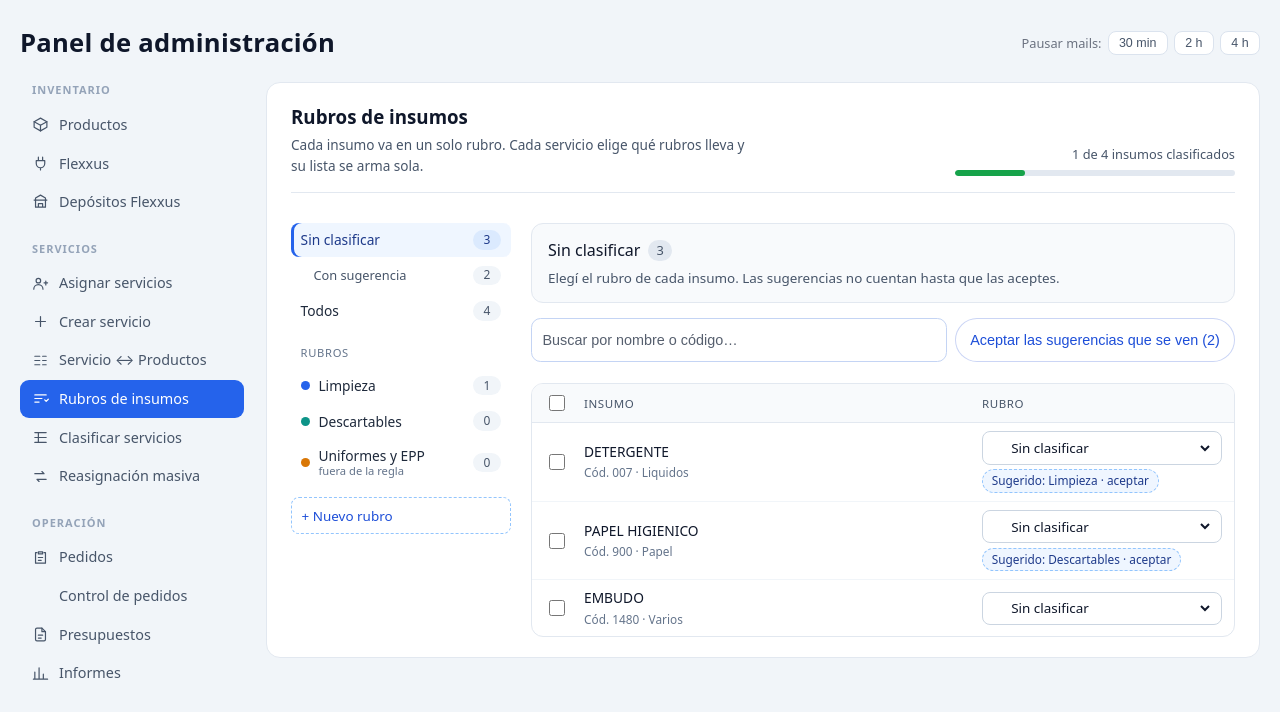
Test: Rubros de insumos › la sugerencia no cuenta hasta aceptarla
Expected: the heading "Rubros de insumos" is shown, [291, 104, 468, 129]
Expected: the dropdown named "Rubro de DETERGENTE" shows "Sin clasificar", [1007, 432, 1213, 464]
What coordinates should you click on to do the following:
click the button with aria-label "Aceptar Limpieza para DETERGENTE"
I would click on:
 (1070, 481)
Its box is [982, 469, 1159, 493].
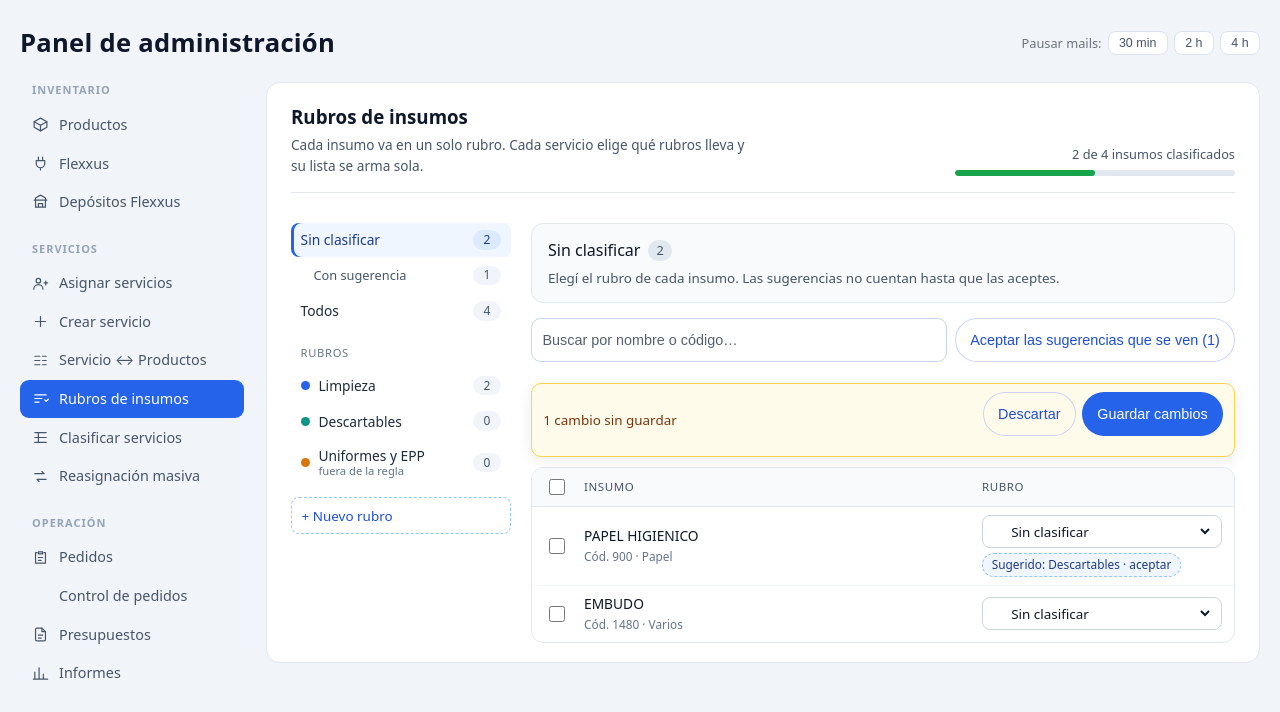
Now the text "1 cambio sin guardar" is shown, box [543, 410, 677, 430]
